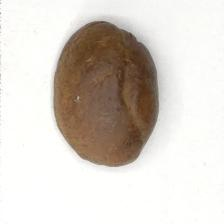NG: (113, 55, 149, 156)
